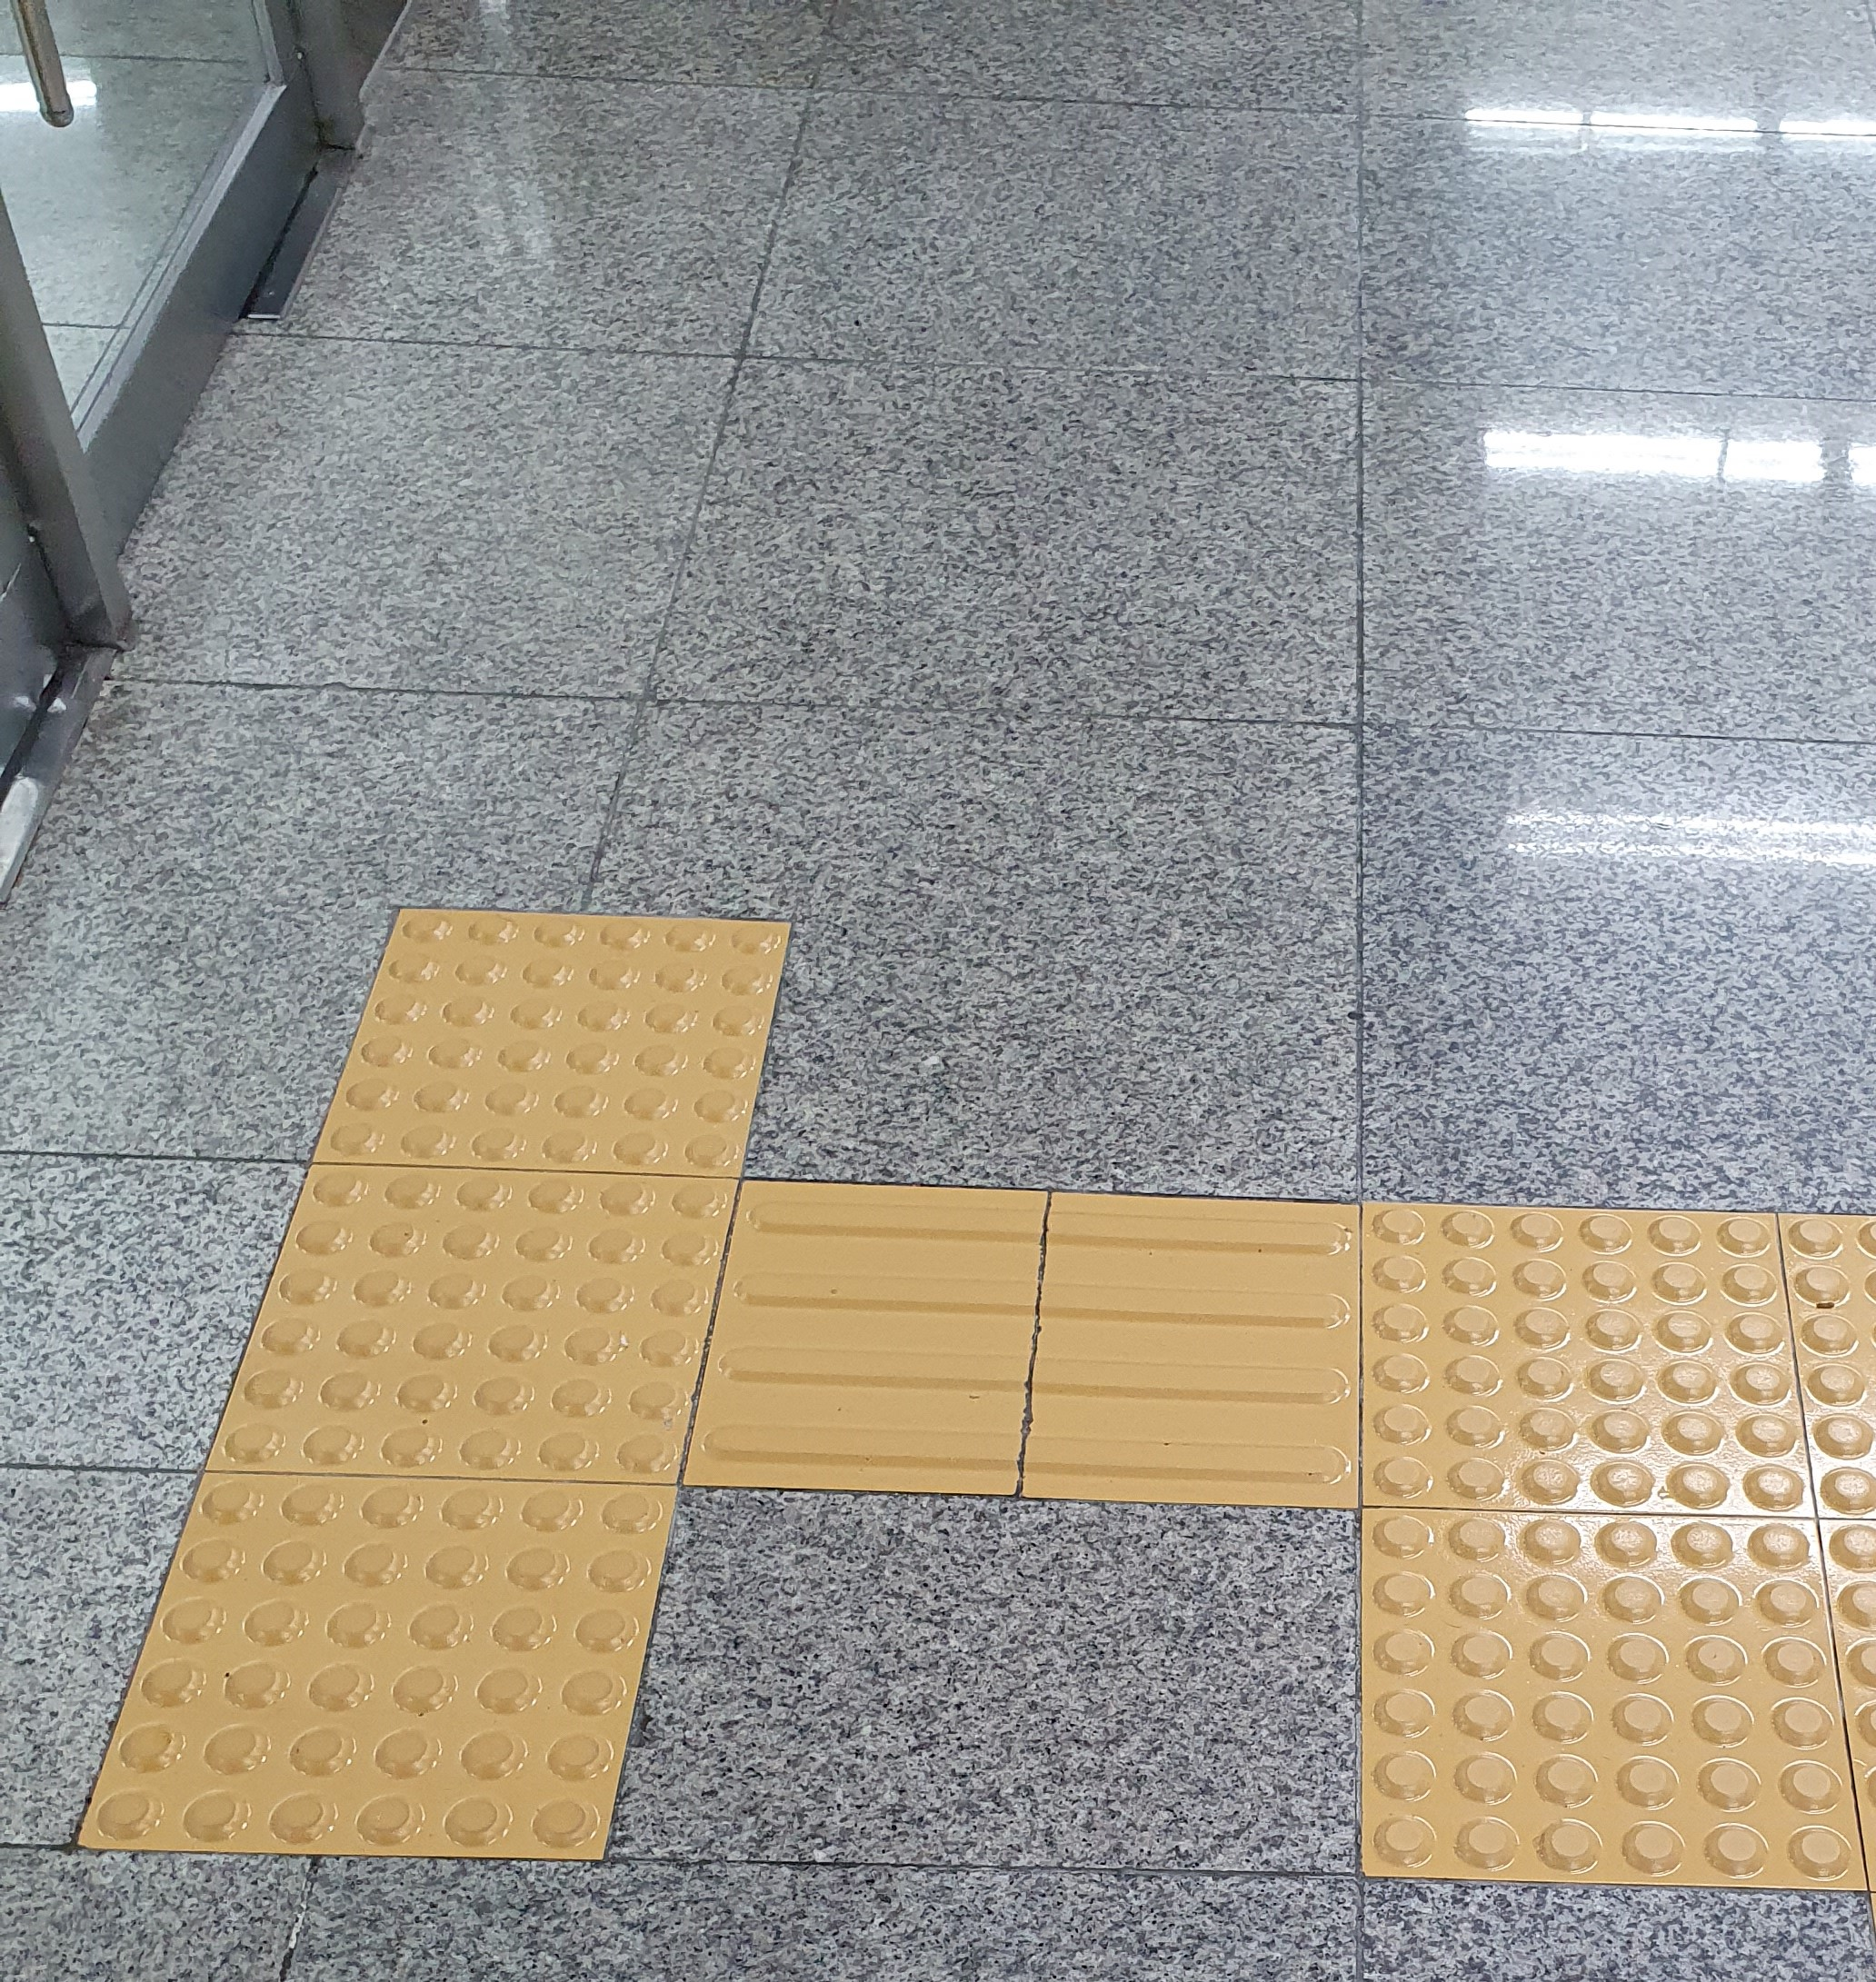guideBlock: (1035, 1181, 1368, 1504), (726, 1185, 1031, 1511)
warningBlock: (1333, 1520, 1816, 1897), (162, 1474, 582, 1850), (1336, 1196, 1783, 1508), (309, 1181, 712, 1508), (347, 910, 746, 1173)
